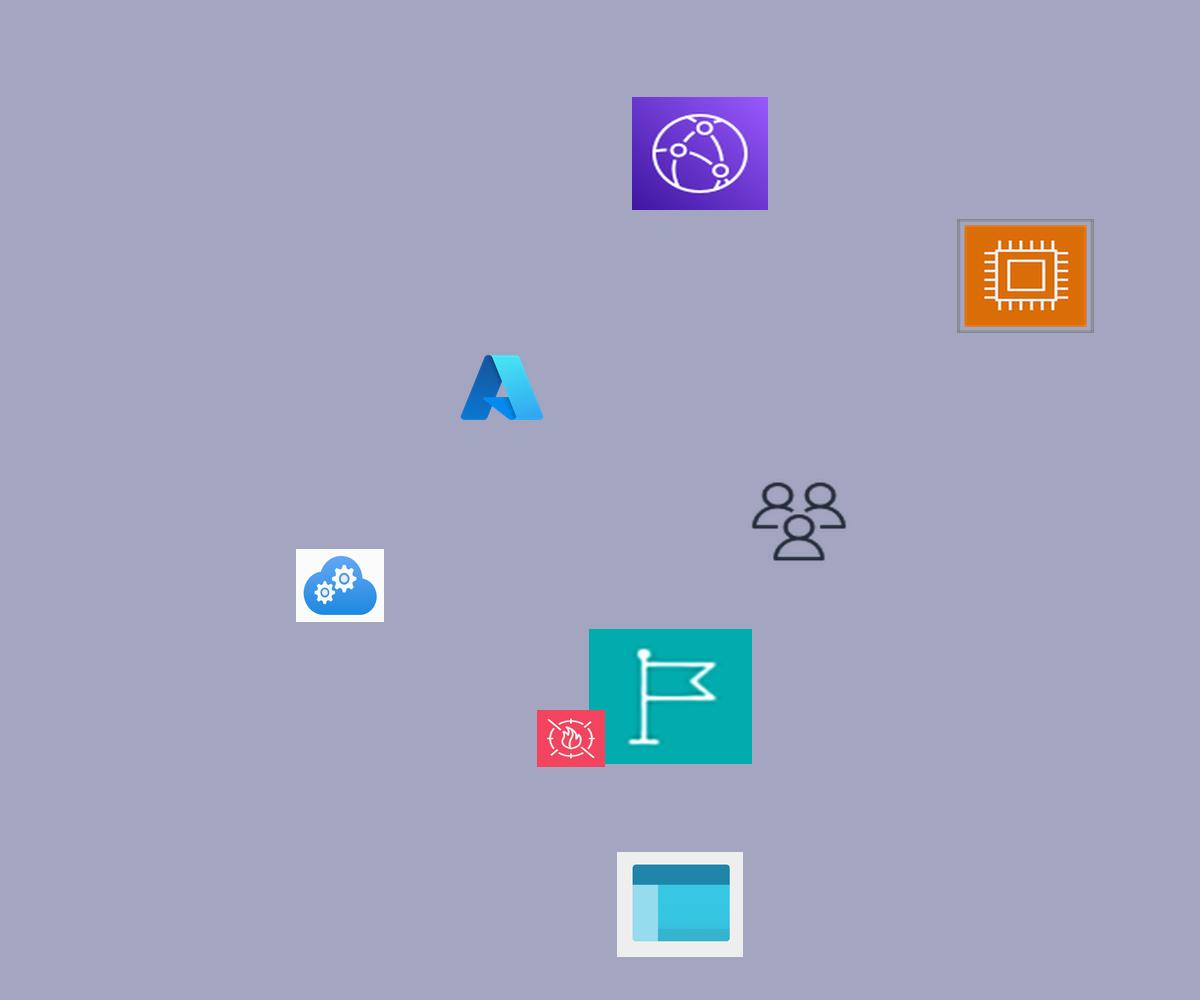AWS-Category_Compute: (957, 219, 1094, 333)
AWS-CloudFront: (632, 97, 768, 210)
AWS-Region: (589, 629, 752, 764)
AWS-Res_Users: (748, 479, 850, 564)
AWS-WAF: (537, 710, 605, 767)
Azure_cloud_services: (296, 549, 384, 622)
Azure_management-portal: (617, 852, 743, 957)
Azure_services: (457, 350, 547, 425)
